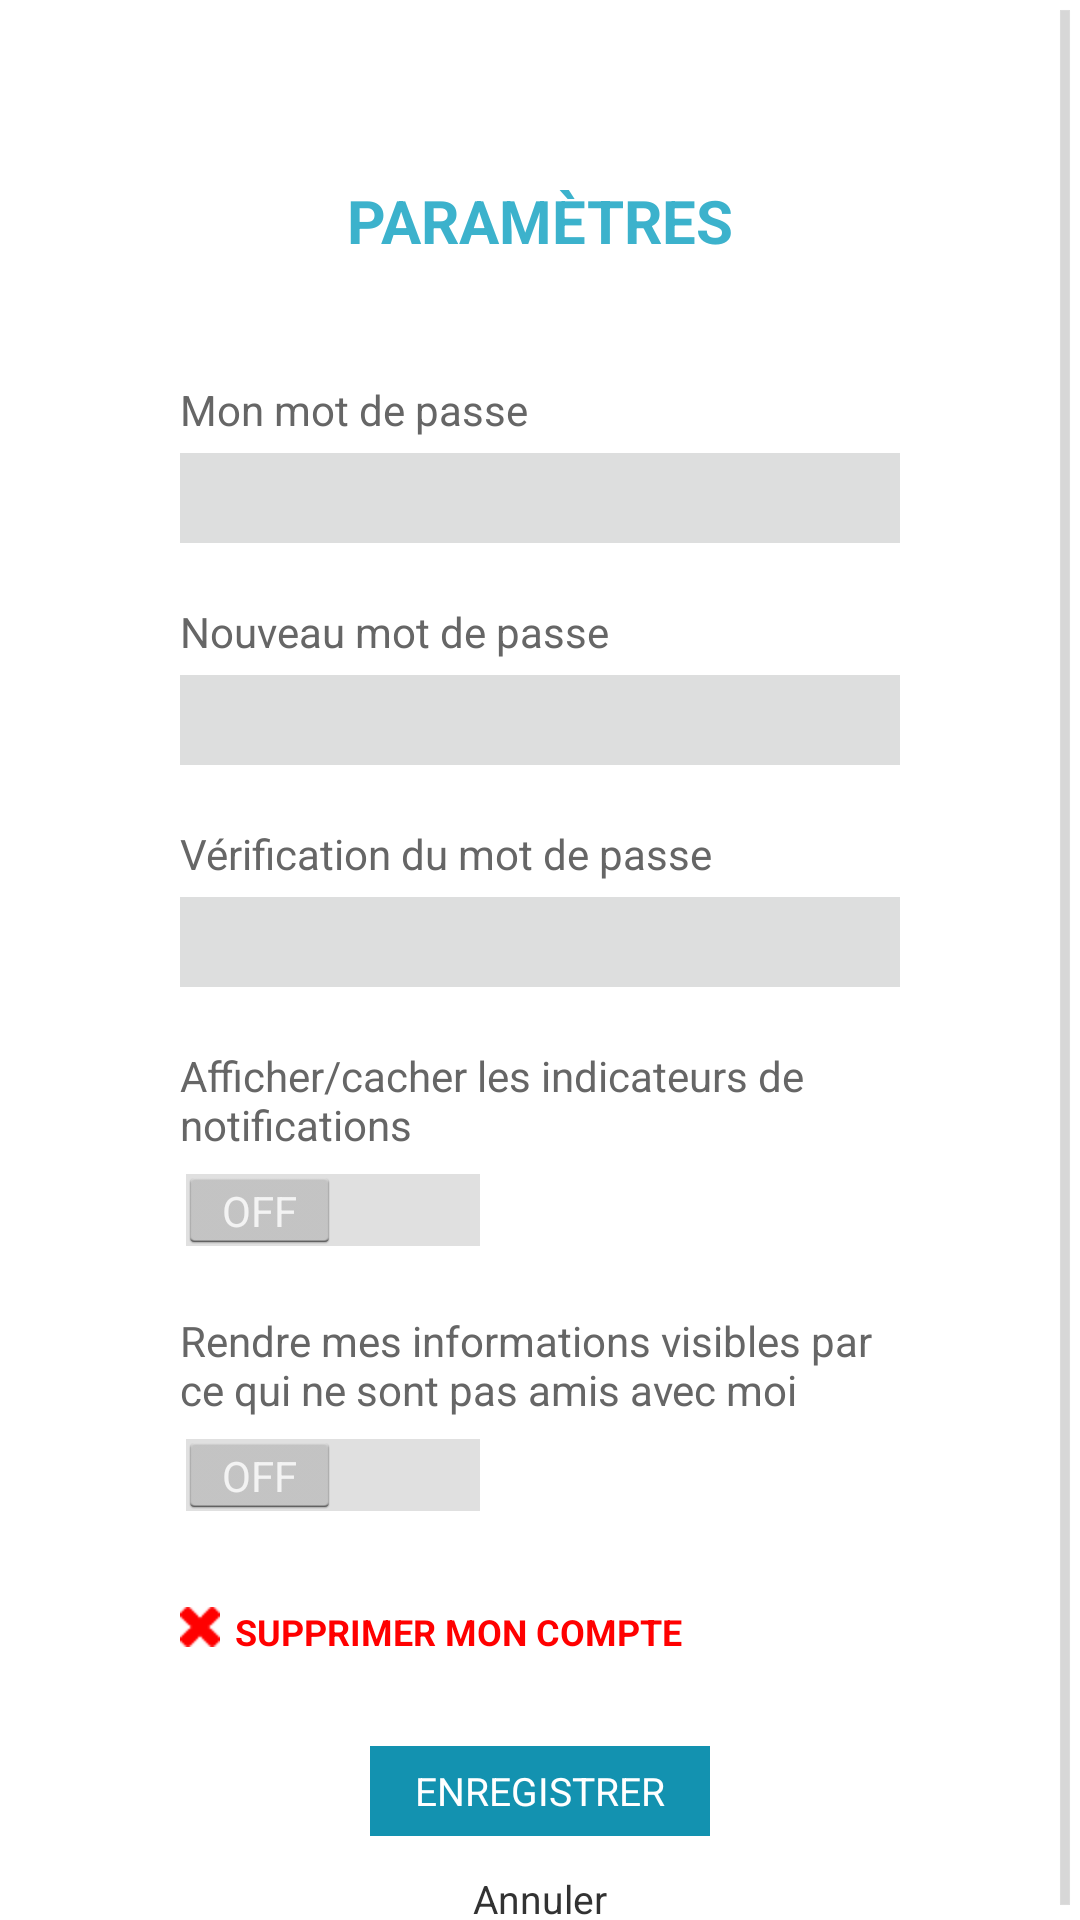

Named icons in this screenshot (1080 x 1920) and their bounding boxes, (x1, y1, x2, y2):
delete account: (180, 1607, 220, 1647)
